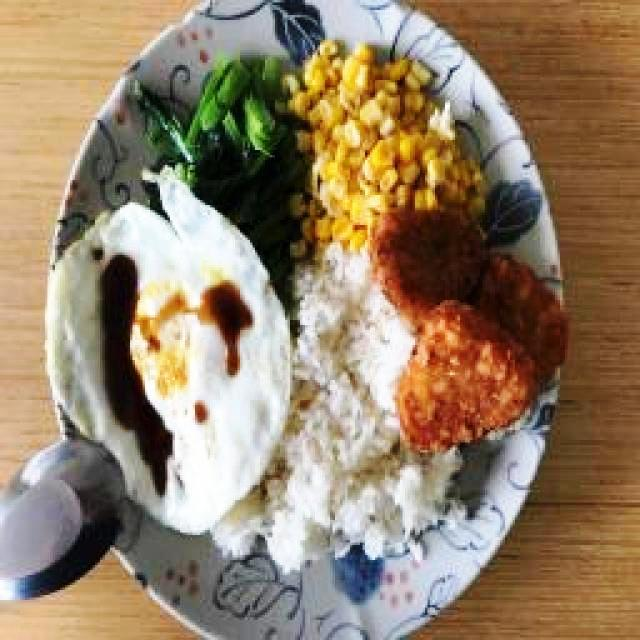Hashbrown: (397, 305, 534, 454), (374, 208, 477, 327), (478, 251, 566, 379)
fried_eggs: (49, 171, 288, 535)
rice: (225, 244, 457, 573)
water_spinach: (133, 56, 286, 215)
